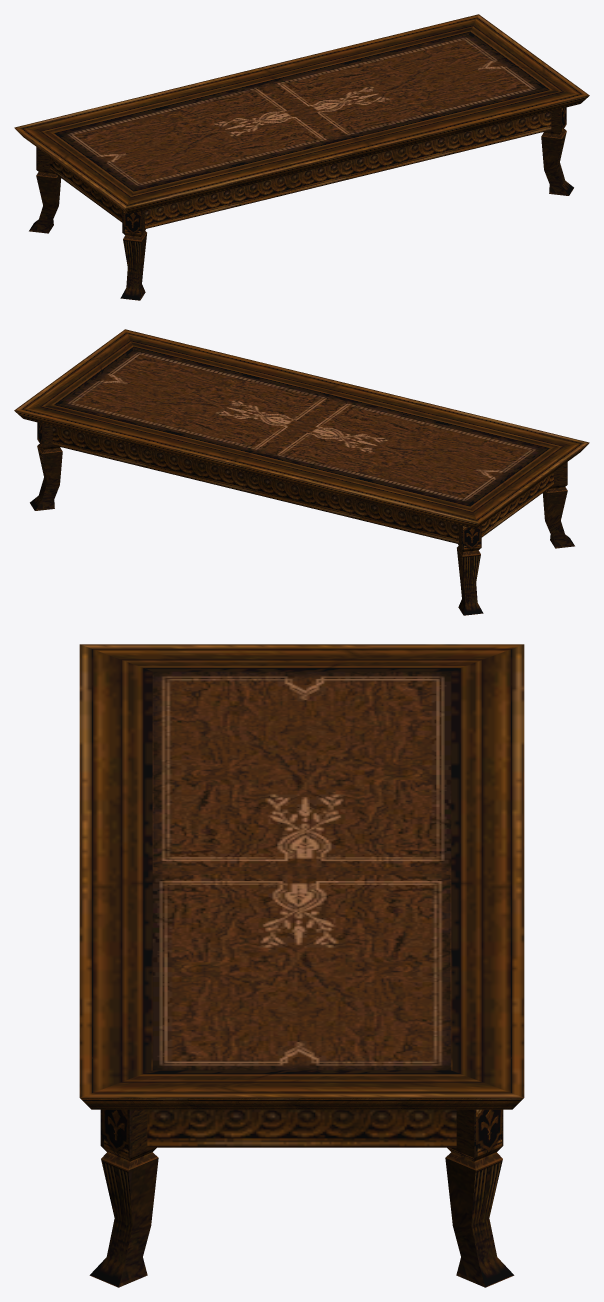
The model's file is antqtbl.fbx.
3 renders of one model, top to bottom at view 1: azimuth 30°, elevation 25°; view 2: azimuth 150°, elevation 25°; view 3: azimuth 270°, elevation 25°, orthographic. The views are drawn at different scales.
Visible parts, largest first — view 1: mesh_0; view 2: mesh_0; view 3: mesh_0.
Part boxes in pixels (x1=…): mesh_0: x1=14, y1=14, x2=589, y2=300; mesh_0: x1=14, y1=329, x2=589, y2=615; mesh_0: x1=79, y1=644, x2=524, y2=1287.
Bounding box in the file's own units: 144 × 28.94 × 59.61.
Materials: 1 (1 with a texture image).
